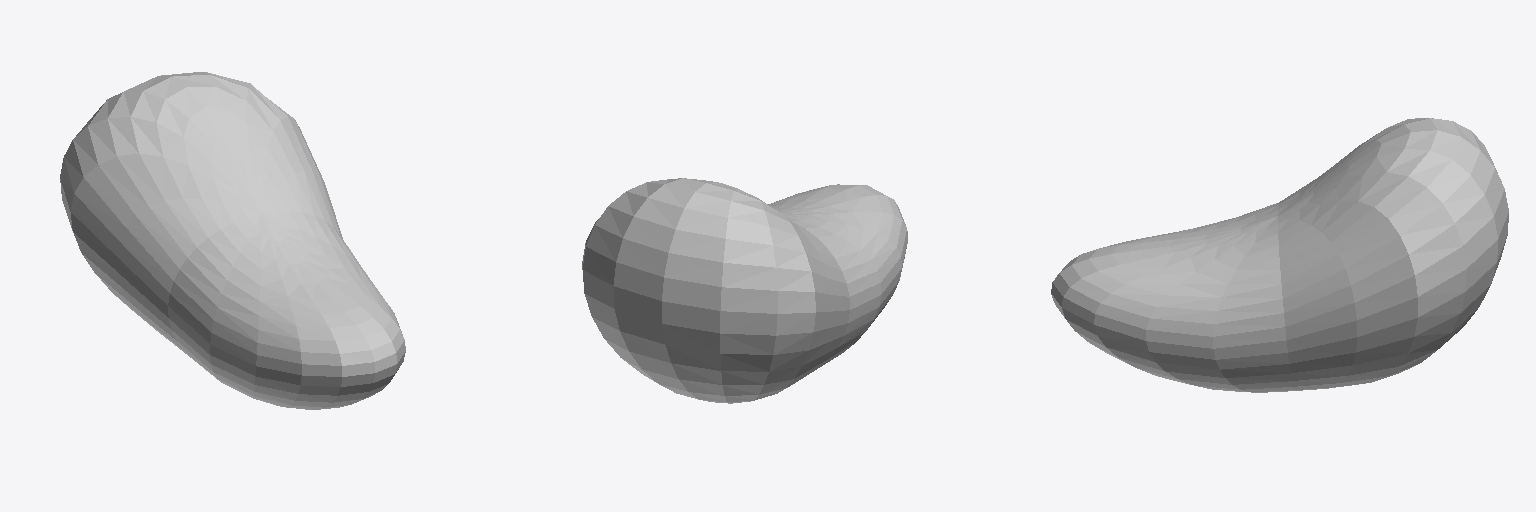
The model's file is momo_tail.obj.
3 views of the same model, side by side, from view 1: azimuth 30°, elevation 25°; view 2: azimuth 150°, elevation 25°; view 3: azimuth 270°, elevation 25° (orthographic).
Visible parts, largest first — view 1: pSphere6; view 2: pSphere6; view 3: pSphere6.
Part boxes in pixels (bbox=[...]): pSphere6: bbox=[60, 72, 405, 409]; pSphere6: bbox=[582, 178, 907, 403]; pSphere6: bbox=[1051, 118, 1508, 392].
Bounding box in the file's own units: 1.13 × 1.14 × 1.92.